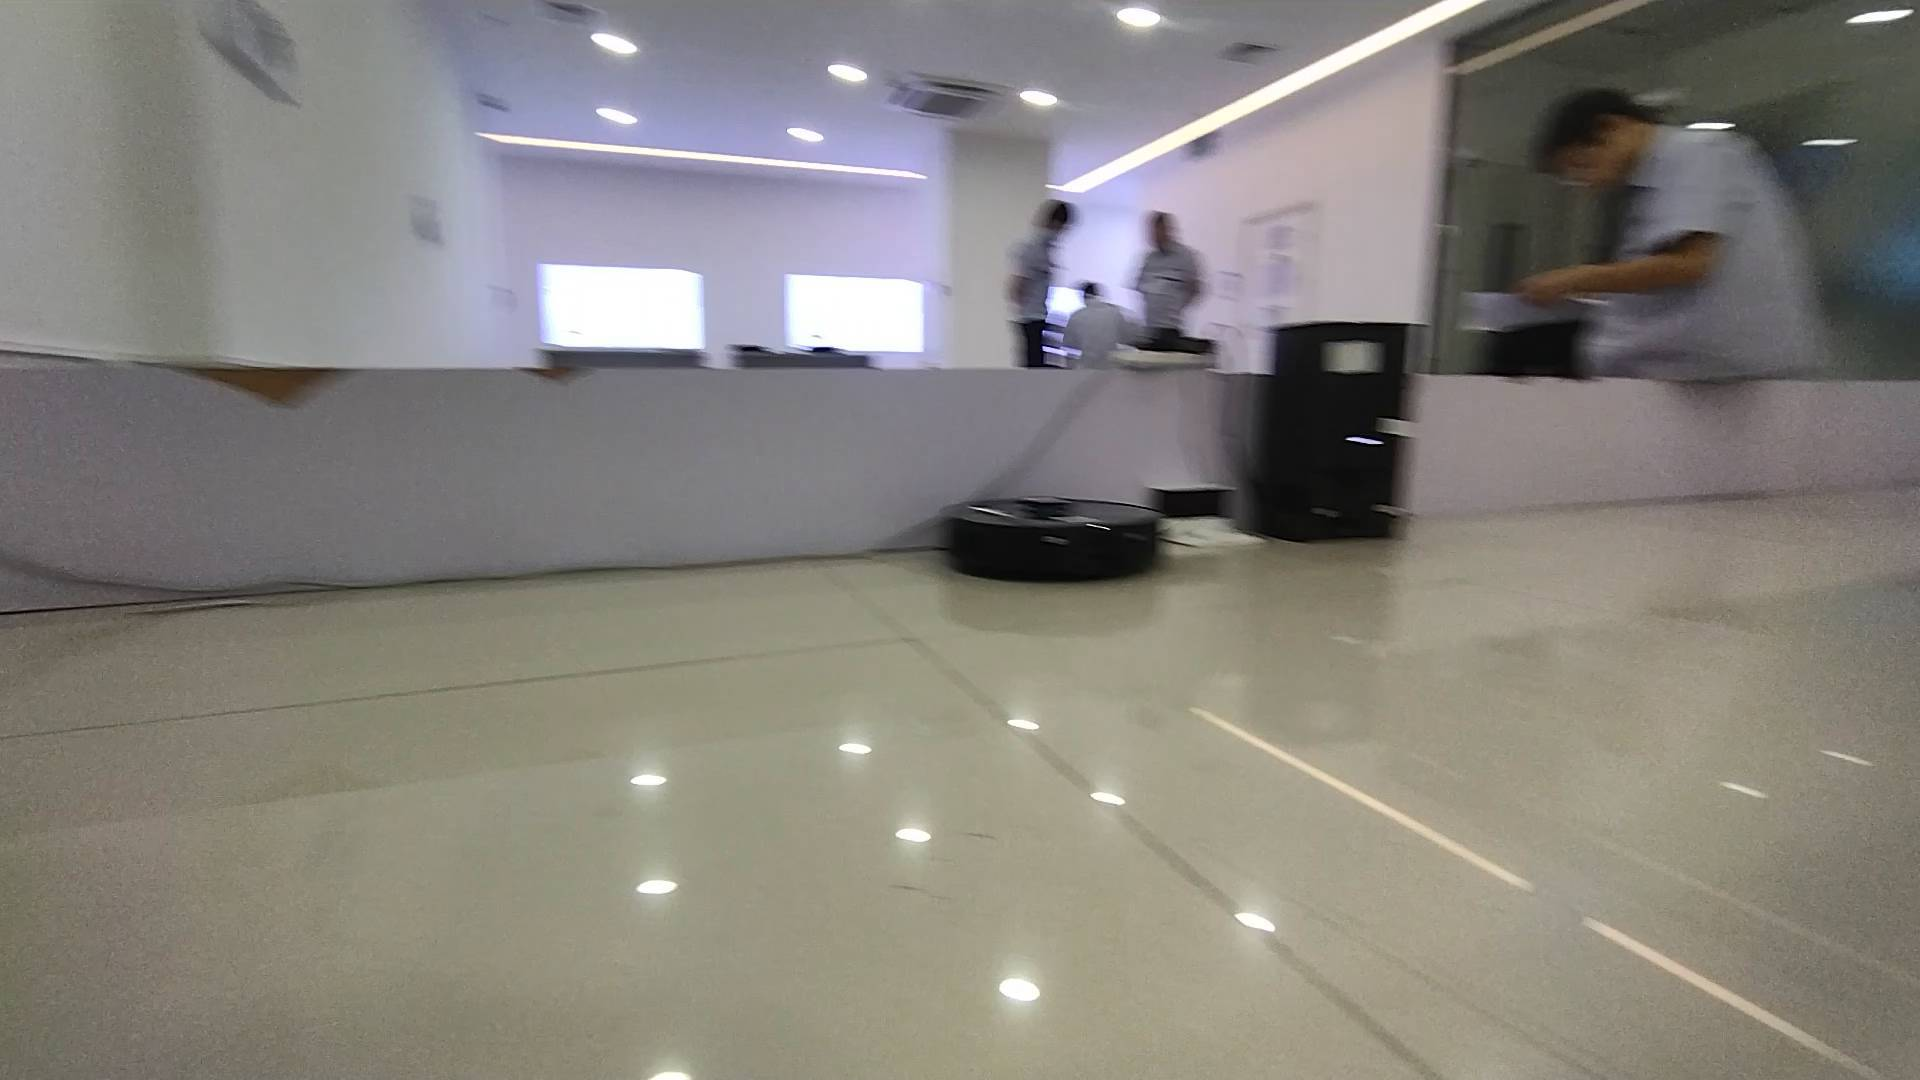dust collecting barrel: (1261, 320, 1419, 546)
recharge seat: (1147, 484, 1263, 549)
